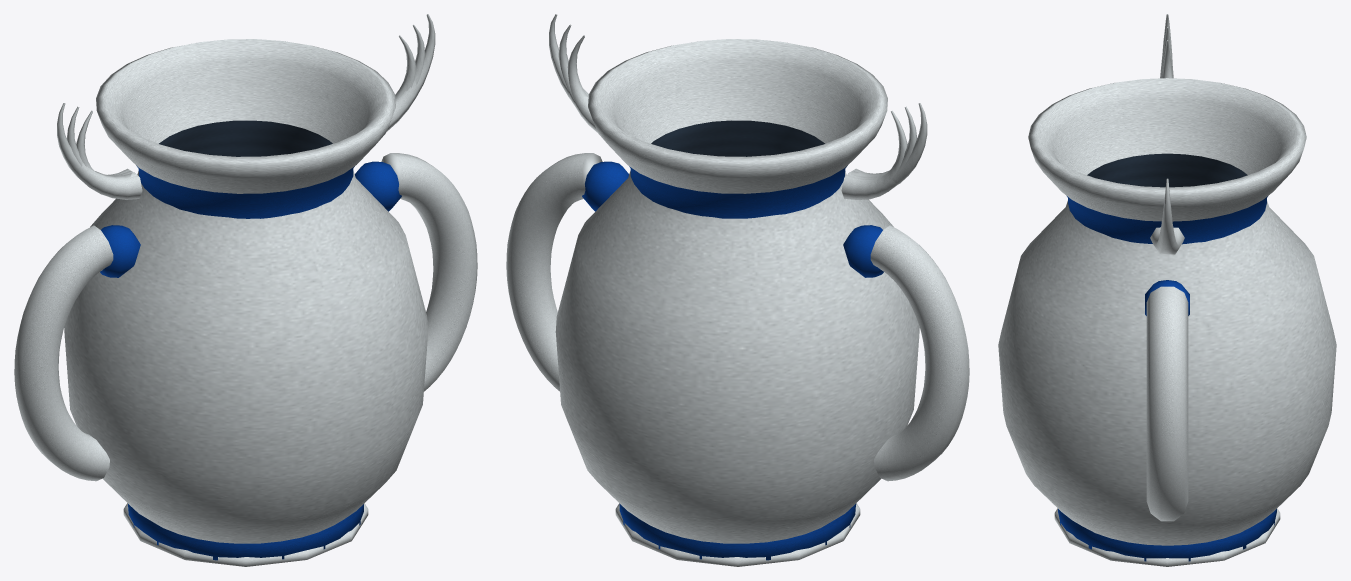
The model's file is gust_jar.glb.
3 views of the same model, side by side, from view 1: azimuth 30°, elevation 25°; view 2: azimuth 150°, elevation 25°; view 3: azimuth 270°, elevation 25° (orthographic). The views are drawn at different scales.
Parts seen in each view (by area): view 1: Porcelain body, Open flared lip, Loop handle (×2), Blue neck, Recessed inner wall, Foot, White lip fin (×2), Handle socket (×2), Foot porcelain edge; view 2: Porcelain body, Open flared lip, Loop handle (×2), Blue neck, Recessed inner wall, White lip fin (×4), Foot, Handle socket (×2), Foot porcelain edge; view 3: Porcelain body, Open flared lip, Loop handle, Recessed inner wall, Blue neck, Foot, Foot porcelain edge, White lip fin.
Part boxes in pixels (x1,y1,x2,y2): Porcelain body: (64,171,428,543); Open flared lip: (96,39,395,193); Loop handle (×2): (14,153,477,481); Blue neck: (136,165,354,218); Recessed inner wall: (159,120,332,156); Foot: (128,504,363,560); White lip fin (×2): (57,14,435,199); Handle socket (×2): (100,161,401,277); Foot porcelain edge: (123,503,368,566); Porcelain body: (555,171,919,543); Open flared lip: (588,39,887,193); Loop handle (×2): (506,153,969,481); Blue neck: (629,165,847,218); Recessed inner wall: (651,120,824,156); White lip fin (×4): (567,35,927,199); Foot: (619,503,856,560); Handle socket (×2): (582,161,883,277); Foot porcelain edge: (615,503,860,566); Porcelain body: (998,201,1336,545); Open flared lip: (1028,78,1306,221); Loop handle: (1146,286,1188,521); Recessed inner wall: (1087,153,1247,187); Blue neck: (1067,196,1267,244); Foot: (1058,509,1276,561); Foot porcelain edge: (1054,508,1280,566); White lip fin: (1150,178,1173,253).
Size of the model in its own units: 98 by 95.06 by 68.
Materials: 3 (3 with a texture image).
